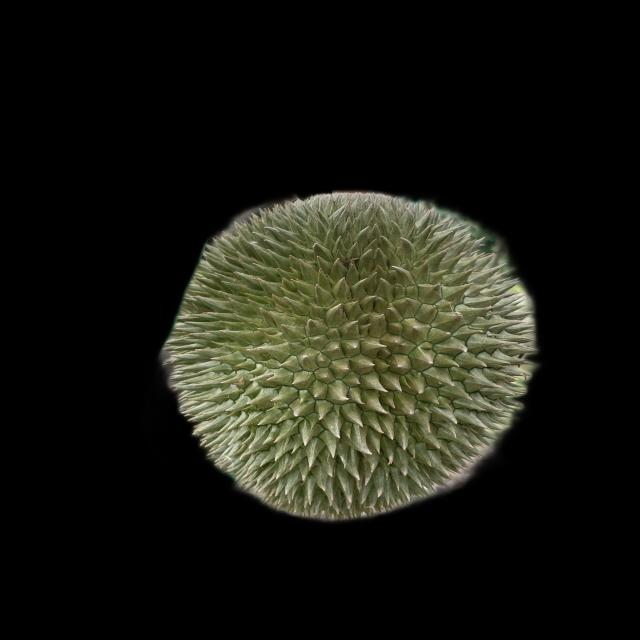immature: (165, 191, 538, 516)
